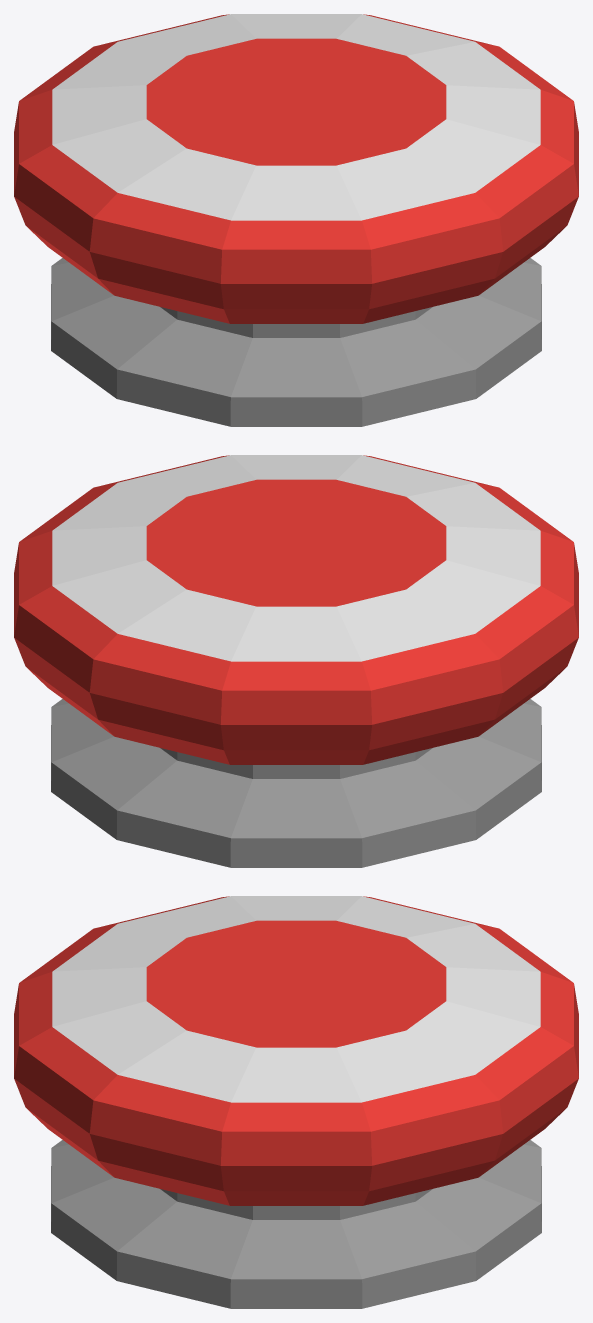
The model's file is Rebotador.fbx.
3 views of the same model, one above another, from view 1: azimuth 30°, elevation 25°; view 2: azimuth 150°, elevation 25°; view 3: azimuth 270°, elevation 25° (orthographic).
Visible parts, largest first — view 1: Rebote.014; view 2: Rebote.014; view 3: Rebote.014.
Part boxes in pixels (bbox=[...]): Rebote.014: bbox=[14, 14, 578, 426]; Rebote.014: bbox=[14, 455, 578, 867]; Rebote.014: bbox=[14, 896, 578, 1308].
Size of the model in its own units: 26.51 by 11.44 by 26.51.
